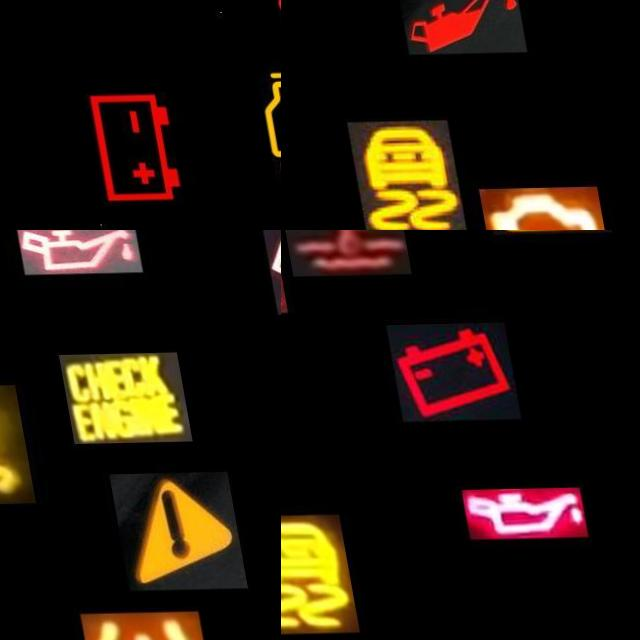Central Warning lamp: (99, 473, 234, 592)
Engine cooling system: (281, 230, 402, 277)
